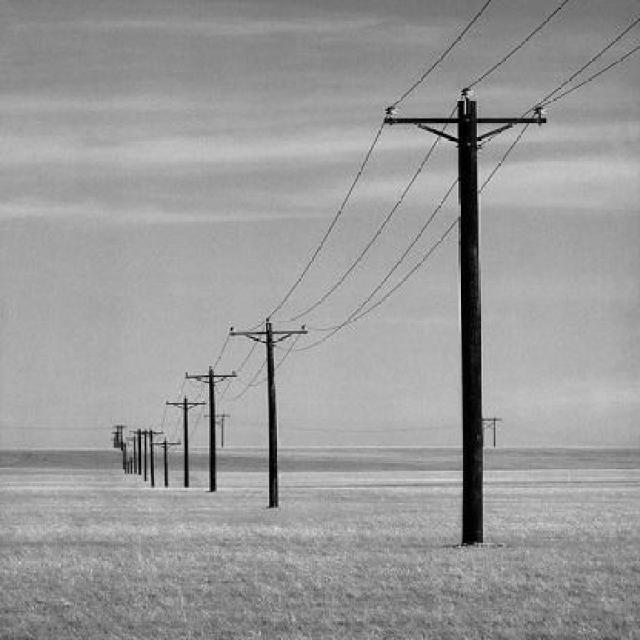Pole: (385, 90, 546, 544), (185, 366, 236, 492), (166, 396, 205, 487), (267, 320, 277, 507)
